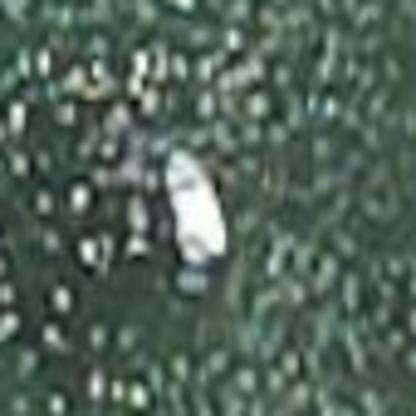ship: (149, 144, 239, 263)
